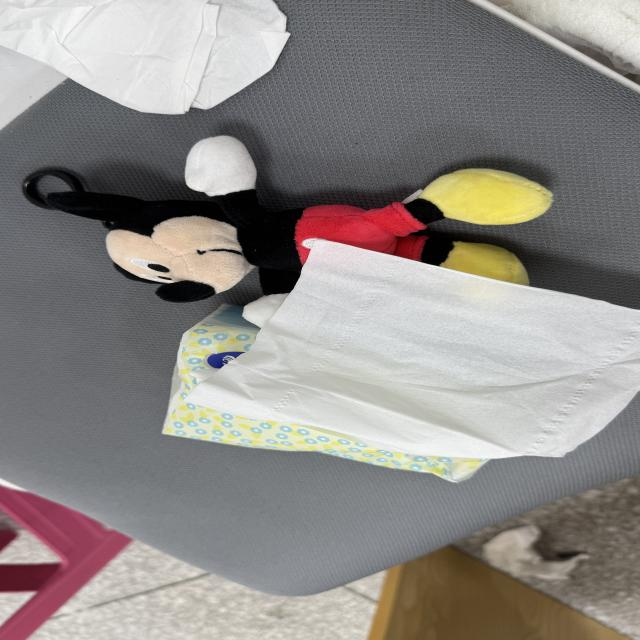mickey: (47, 136, 552, 302)
tissue: (163, 241, 639, 483), (190, 240, 639, 458), (0, 0, 289, 113), (483, 526, 589, 580)
